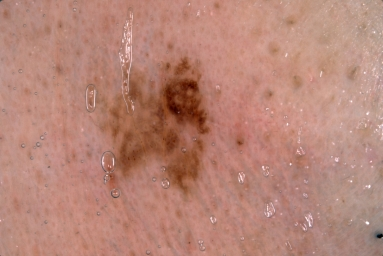seborrheic keratosis: (84, 57, 230, 204)
